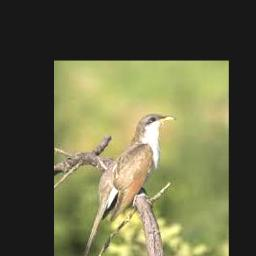Cuckoo: (83, 113, 176, 256)
